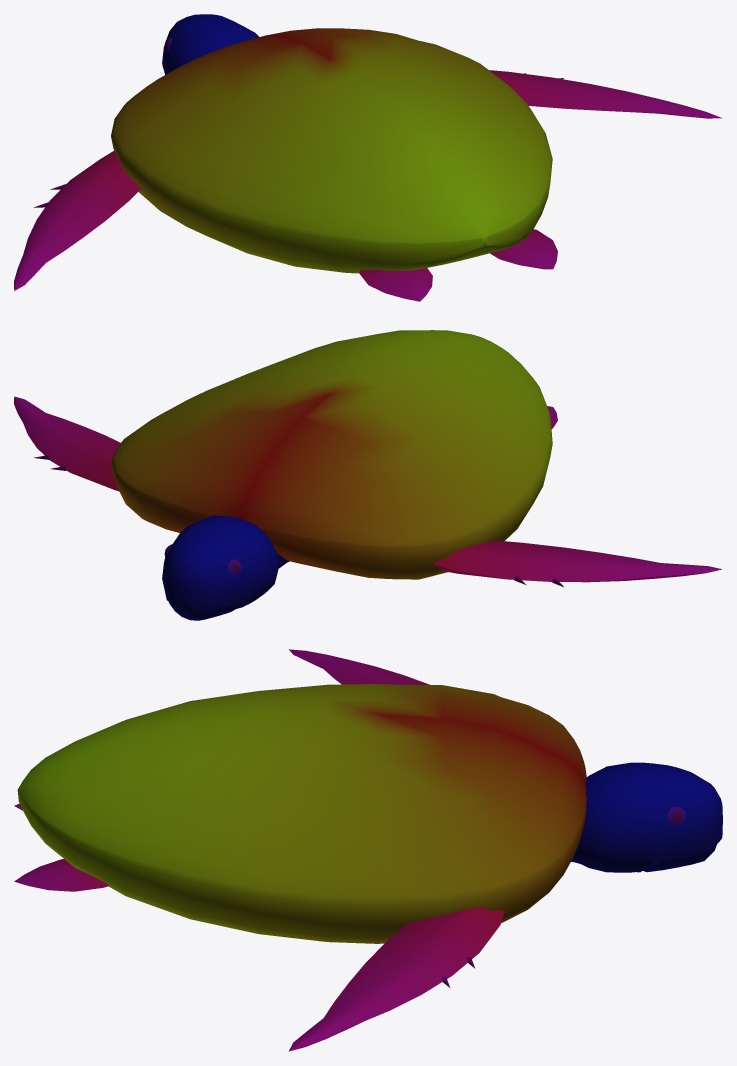
The model's file is sea_turtle_loggerhead_game.glb.
3 views of the same model, one above another, from view 1: azimuth 30°, elevation 25°; view 2: azimuth 150°, elevation 25°; view 3: azimuth 270°, elevation 25° (orthographic). The views are drawn at different scales.
Parts seen in each view (by area): view 1: sea_turtle_loggerhead_game; view 2: sea_turtle_loggerhead_game; view 3: sea_turtle_loggerhead_game.
Part boxes in pixels (x1,y1,x2,y2): sea_turtle_loggerhead_game: (14,14,722,301); sea_turtle_loggerhead_game: (14,330,721,620); sea_turtle_loggerhead_game: (14,649,722,1051).
Bounding box in the file's own units: 1.67 × 0.3053 × 1.24.
